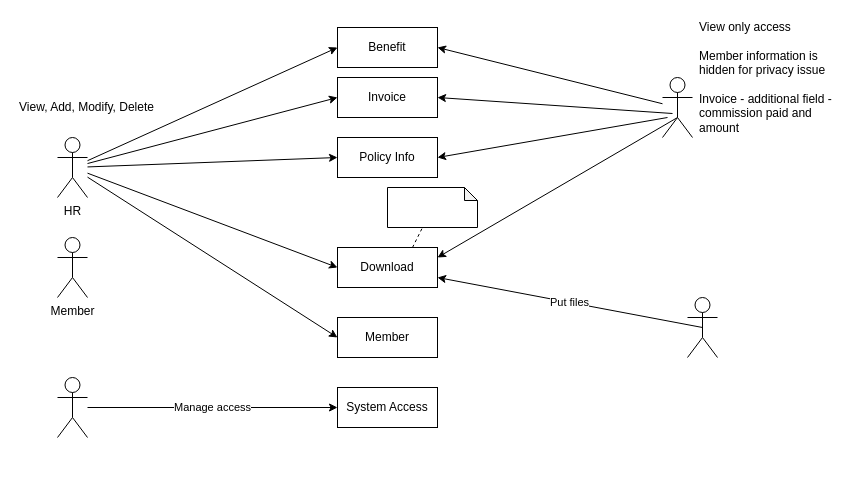
The diagram is 854 pixels wide and 490 high, and some of its shapes have lost their labels. Here are the shapes that lost their labels. From the top down, the centre of each, then its label:
At point 677,107: "Broker".
At point 432,207: "Policy specific download list".
At point 702,327: "Internal User".
At point 72,407: "Super Admin (Client company)".
